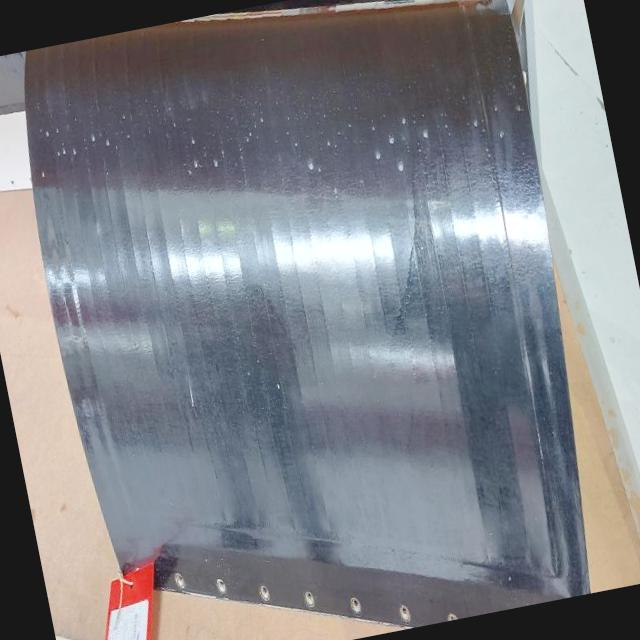Missing Fastener: (396, 598, 416, 628), (300, 584, 318, 614), (170, 566, 188, 594), (256, 578, 274, 606), (349, 592, 363, 616), (214, 575, 228, 597)
